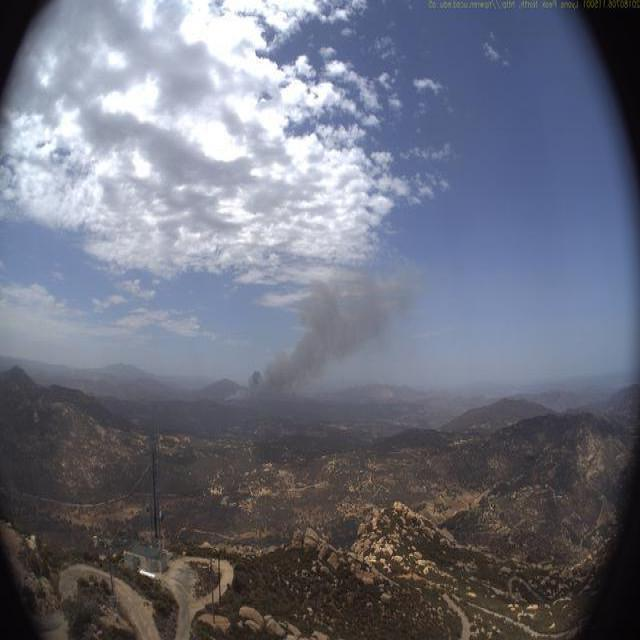Smoke: (200, 222, 426, 434)
